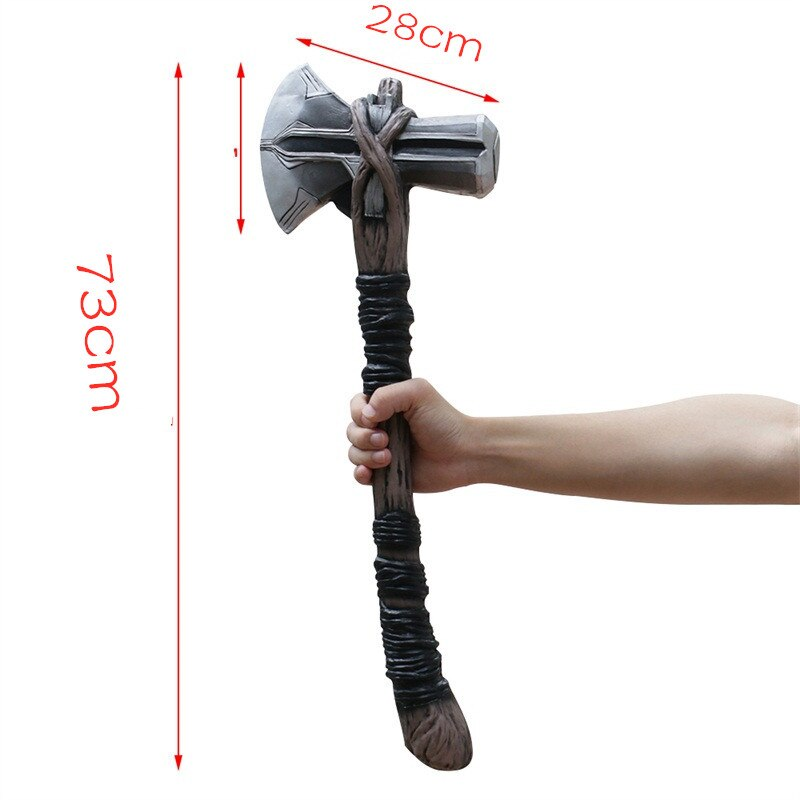THOR Hammer: (253, 61, 564, 759)
